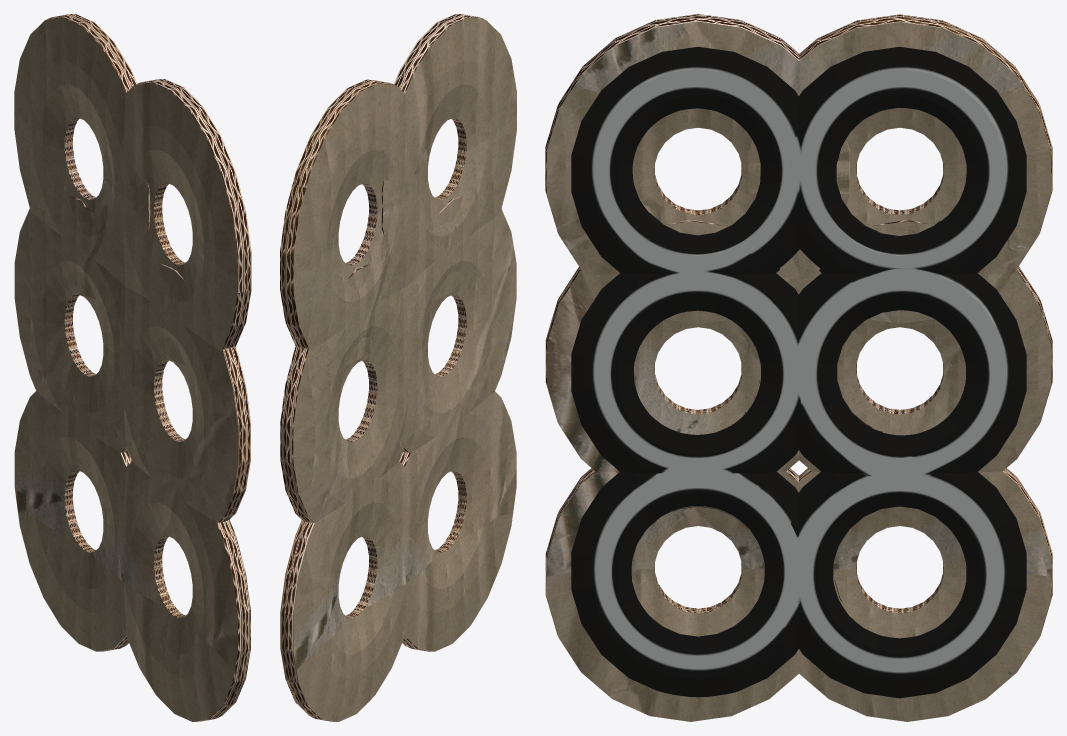
File: 6pack.fbx
The picture shows the model from 3 angles, left to right: view 1: azimuth 30°, elevation 25°; view 2: azimuth 150°, elevation 25°; view 3: azimuth 270°, elevation 25°; orthographic projection. The views are drawn at different scales.
Visible parts, largest first — view 1: 6pack.001; view 2: 6pack.001; view 3: 6pack.001.
Part boxes in pixels (x1,y1,x2,y2): 6pack.001: [14, 14, 251, 721]; 6pack.001: [280, 14, 516, 721]; 6pack.001: [545, 14, 1052, 721].
Bounding box in the file's own units: 6.55 × 193 × 126.
Materials: 3 (3 with a texture image).
